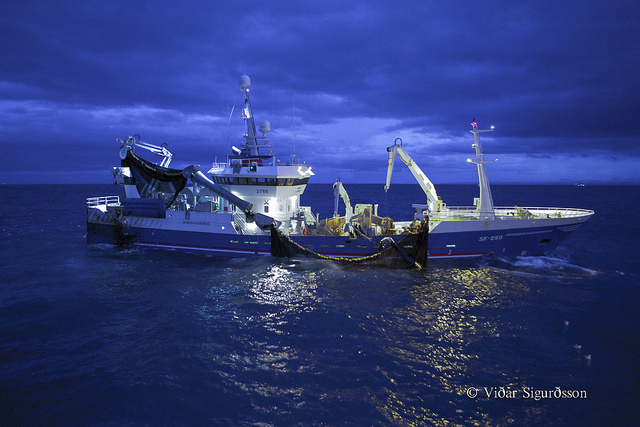fishing_boat: (84, 63, 598, 268)
